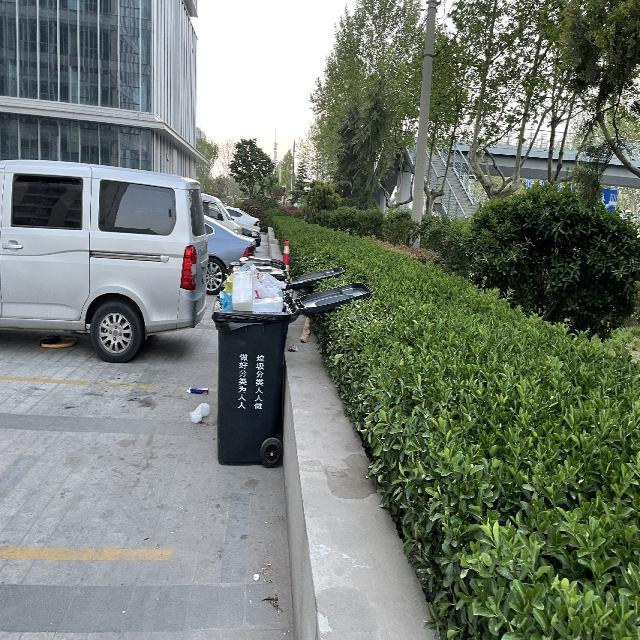garbage: (186, 385, 209, 423)
overflow: (211, 254, 298, 465)
